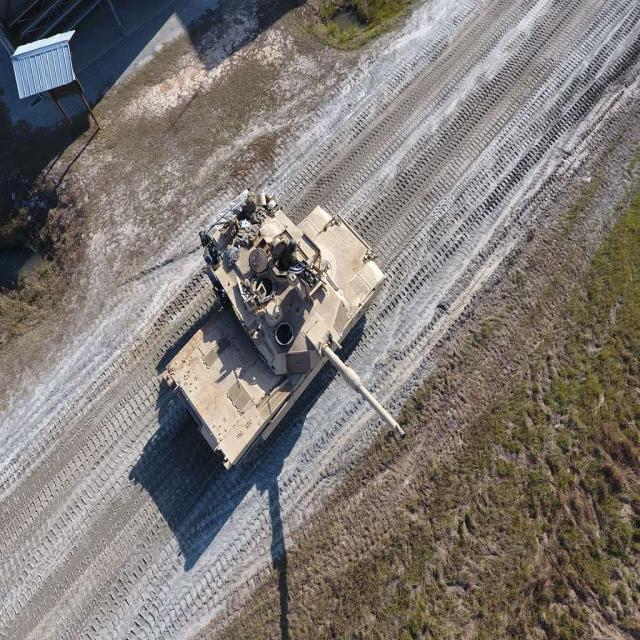Tanks: (158, 186, 404, 475)
